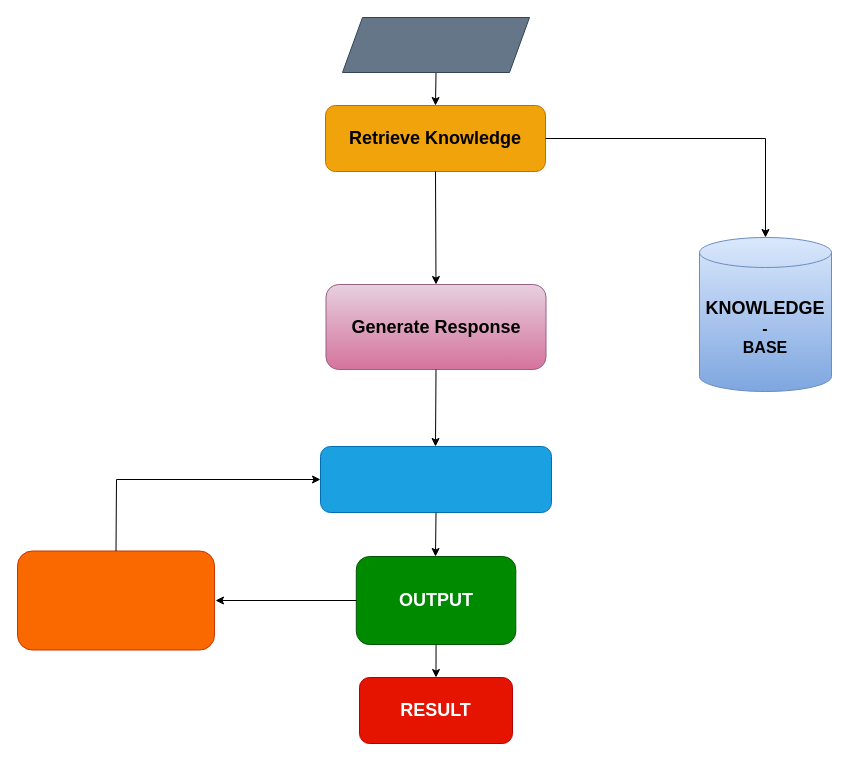
Some shapes in this 849 by 761 pixel diagram are drawn without their labels. The shapes that lost their labels are listed below. From the top down, each one's centre as x and y in pixels, then its label:
At pixel 436 44: "Task Input".
At pixel 436 479: "EVALUATE RESPONSE".
At pixel 115 600: "REFINE / RETRIEVE MORE INFO".
